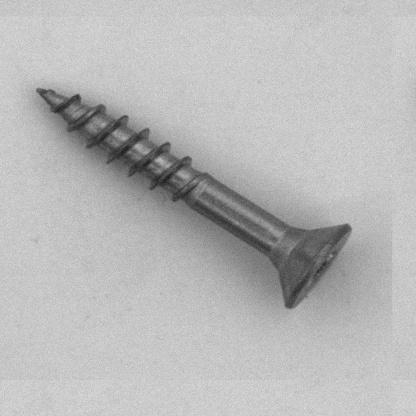metal: (36, 88, 356, 311)
